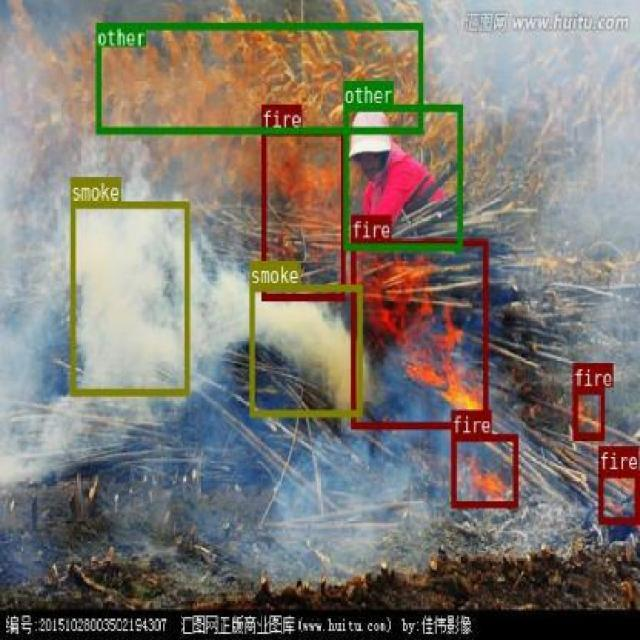Fire: (350, 238, 487, 427), (261, 128, 344, 300), (451, 433, 517, 507), (598, 470, 638, 522), (572, 387, 603, 438)
Smoke: (70, 200, 188, 394), (248, 284, 361, 416)
